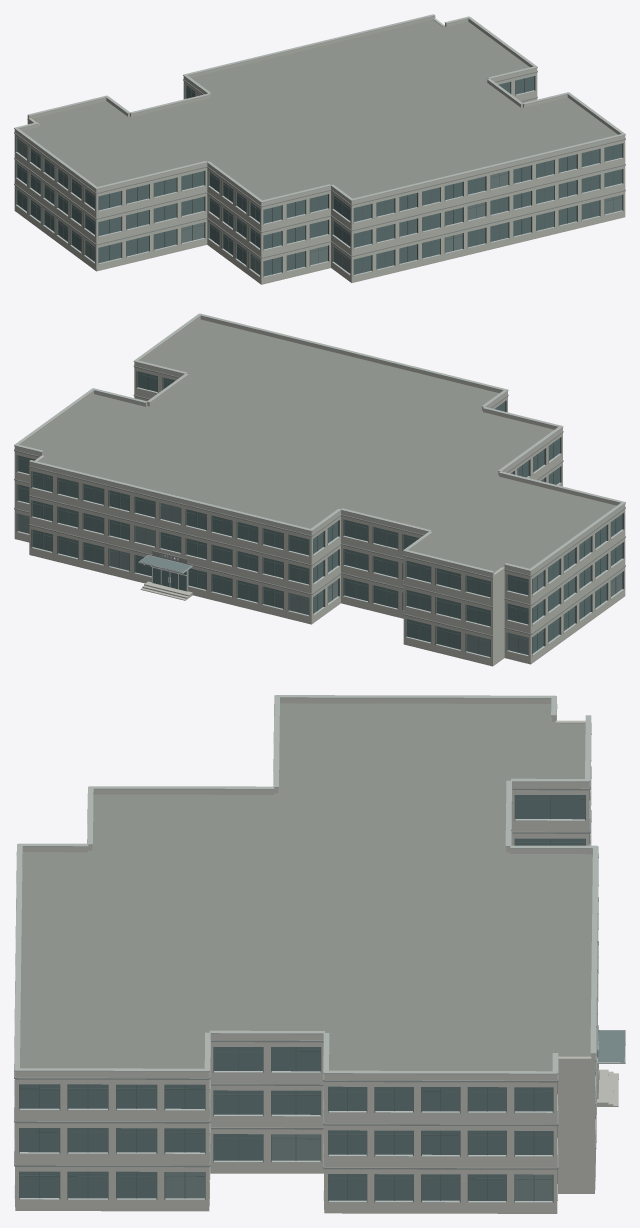
The model's file is south_canteen.glb.
3 renders of one model, top to bottom at view 1: azimuth 30°, elevation 25°; view 2: azimuth 150°, elevation 25°; view 3: azimuth 270°, elevation 25°, orthographic. The views are drawn at different scales.
Visible parts, largest first — view 1: south_canteen_FacultyRoof, south_canteen_CanteenPlaster, south_canteen_WindowGlass, south_canteen_Teaching5TileJoint, south_canteen_WindowReveal, south_canteen_FacultyDarkPanel, south_canteen_WindowAluminium, south_canteen_WindowRubber, south_canteen_WindowGlassLight, south_canteen_EntryStone; view 2: south_canteen_FacultyRoof, south_canteen_CanteenPlaster, south_canteen_WindowGlass, south_canteen_Teaching5TileJoint, south_canteen_WindowReveal, south_canteen_FacultyDarkPanel, south_canteen_WindowAluminium, south_canteen_WindowGlassLight, south_canteen_WindowRubber, south_canteen_EntryStone; view 3: south_canteen_FacultyRoof, south_canteen_CanteenPlaster, south_canteen_WindowGlass, south_canteen_Teaching5TileJoint, south_canteen_FacultyDarkPanel, south_canteen_WindowAluminium, south_canteen_WindowGlassLight, south_canteen_WindowRubber, south_canteen_WindowReveal, south_canteen_EntryStone.
Boxes of the visible parts, x1,y1,x2,y2 form: south_canteen_FacultyRoof: (22, 19, 617, 200); south_canteen_CanteenPlaster: (14, 16, 625, 283); south_canteen_WindowGlass: (17, 76, 622, 276); south_canteen_Teaching5TileJoint: (14, 14, 625, 202); south_canteen_WindowReveal: (15, 76, 623, 277); south_canteen_FacultyDarkPanel: (14, 71, 625, 258); south_canteen_WindowAluminium: (15, 90, 623, 277); south_canteen_WindowRubber: (17, 78, 622, 274); south_canteen_WindowGlassLight: (17, 138, 622, 274); south_canteen_EntryStone: (14, 210, 625, 284); south_canteen_FacultyRoof: (23, 319, 616, 572); south_canteen_CanteenPlaster: (14, 316, 625, 664); south_canteen_WindowGlass: (18, 371, 622, 653); south_canteen_Teaching5TileJoint: (14, 313, 625, 573); south_canteen_WindowReveal: (16, 371, 624, 658); south_canteen_FacultyDarkPanel: (14, 365, 625, 636); south_canteen_WindowAluminium: (16, 387, 624, 658); south_canteen_WindowGlassLight: (18, 503, 622, 656); south_canteen_WindowRubber: (18, 374, 622, 653); south_canteen_EntryStone: (14, 538, 625, 666); south_canteen_FacultyRoof: (20, 703, 592, 1071); south_canteen_CanteenPlaster: (15, 698, 595, 1211); south_canteen_WindowGlass: (19, 795, 584, 1200); south_canteen_Teaching5TileJoint: (14, 695, 598, 1074); south_canteen_FacultyDarkPanel: (14, 704, 598, 1169); south_canteen_WindowAluminium: (14, 789, 625, 1202); south_canteen_WindowGlassLight: (165, 1030, 624, 1200); south_canteen_WindowRubber: (19, 795, 584, 1200); south_canteen_WindowReveal: (19, 790, 595, 1202); south_canteen_EntryStone: (15, 1069, 618, 1213).
Size of the model in its own units: 74.47 by 12.92 by 50.85.
